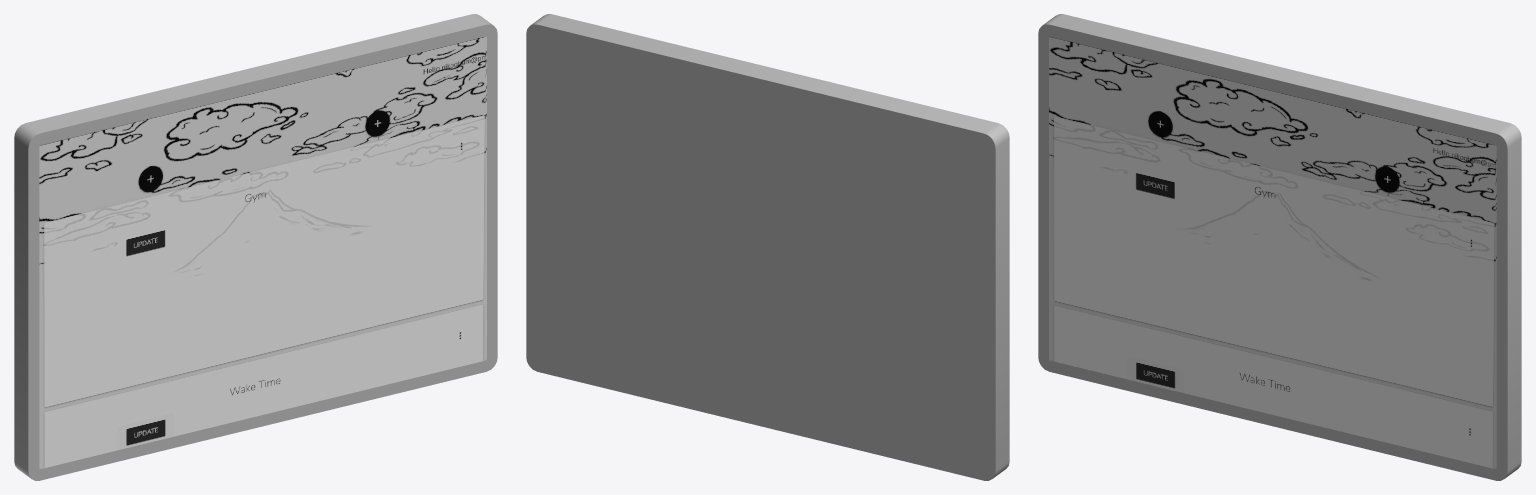
File: tile6.glb
3 renders of one model, left to right at view 1: azimuth 30°, elevation 25°; view 2: azimuth 150°, elevation 25°; view 3: azimuth 330°, elevation 25°, orthographic.
Parts seen in each view (by area): view 1: tile6; view 2: tile6; view 3: tile6.
Boxes of the visible parts, bbox=[...] form: tile6: bbox=[14, 14, 497, 480]; tile6: bbox=[526, 14, 1009, 480]; tile6: bbox=[1038, 14, 1521, 480].
Size of the model in its own units: 2.97 by 2.1 by 0.1566.
Materials: 2 (1 with a texture image).
